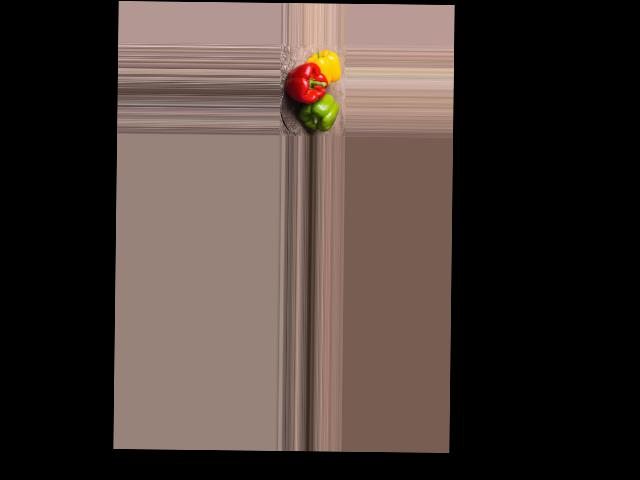bell_pepper: (305, 50, 342, 82)
